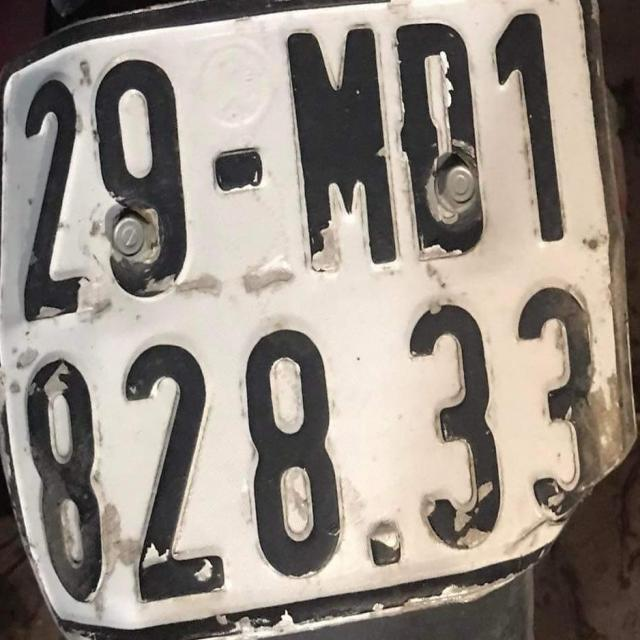2: (116, 330, 235, 610), (7, 59, 93, 324)
3: (400, 294, 510, 552), (516, 285, 596, 519)
8: (236, 314, 352, 584), (20, 349, 106, 615)
9: (90, 51, 200, 300)
L: (490, 11, 580, 248)
M: (284, 14, 394, 274)
